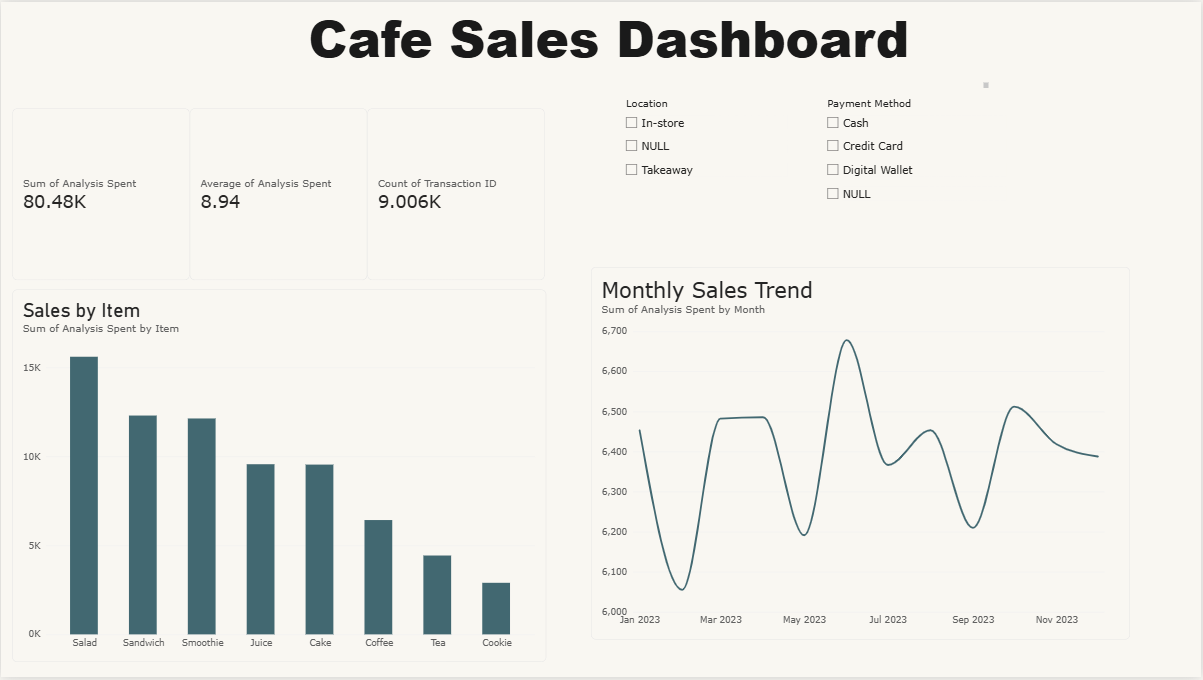

The dashboard page shown, as its layout file describes it:
{"tool":"powerbi","page":{"name":"Page 1","canvas":[1920,1080],"ordinal":0},"visuals":[{"type":"cardVisual","fields":{"Data":["Sum(cleanedDATA.Analysis Spent)"]},"box":[18,170,284,275.8],"z":0},{"type":"cardVisual","fields":{"Data":["Avg(cleanedDATA.Analysis Spent)"]},"box":[302,170,284,275.8],"z":1000},{"type":"cardVisual","fields":{"Data":["CountNonNull(cleanedDATA.Transaction ID)"]},"box":[586,170,284,275.8],"z":2000},{"type":"clusteredColumnChart","title":"Sales by Item","fields":{"Category":["cleanedDATA.Item"],"Y":["Sum(cleanedDATA.Analysis Spent)"]},"box":[18,460,854,596],"z":3000},{"type":"lineChart","title":"Monthly Sales Trend","fields":{"Y":["Sum(cleanedDATA.Analysis Spent)"],"Category":["cleanedDATA.Month"]},"box":[944,424,862,596],"z":4000},{"type":"slicer","fields":{"Values":["cleanedDATA.Location"]},"box":[992,152,266,250],"z":5000},{"type":"slicer","fields":{"Values":["cleanedDATA.Payment Method"]},"box":[1314,152,294,250],"z":6000},{"type":"textbox","title":"Cafe Sales Dashboard","box":[492,0,1088,138],"z":7000}]}

Visuals, with their boxes in screenshot pixels (x1, y1, x2, y2), scaled from the page's 1920x1080 canvas onto the 1203x680 screenshot:
cardVisual - Sum(cleanedDATA.Analysis Spent): (11, 107, 189, 281)
cardVisual - Avg(cleanedDATA.Analysis Spent): (189, 107, 367, 281)
cardVisual - CountNonNull(cleanedDATA.Transaction ID): (367, 107, 545, 281)
"Sales by Item" clusteredColumnChart: (11, 290, 546, 665)
"Monthly Sales Trend" lineChart: (591, 267, 1132, 642)
slicer - cleanedDATA.Location: (622, 96, 788, 253)
slicer - cleanedDATA.Payment Method: (823, 96, 1008, 253)
"Cafe Sales Dashboard" textbox: (308, 0, 990, 87)
